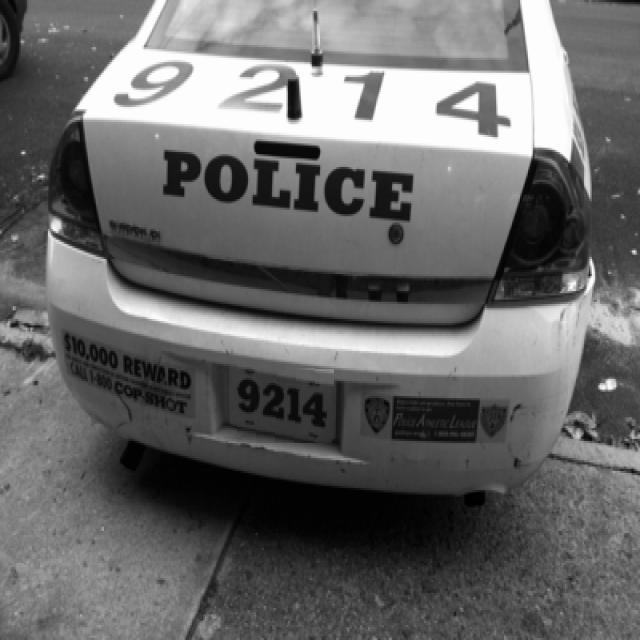licence: (228, 364, 334, 443)
